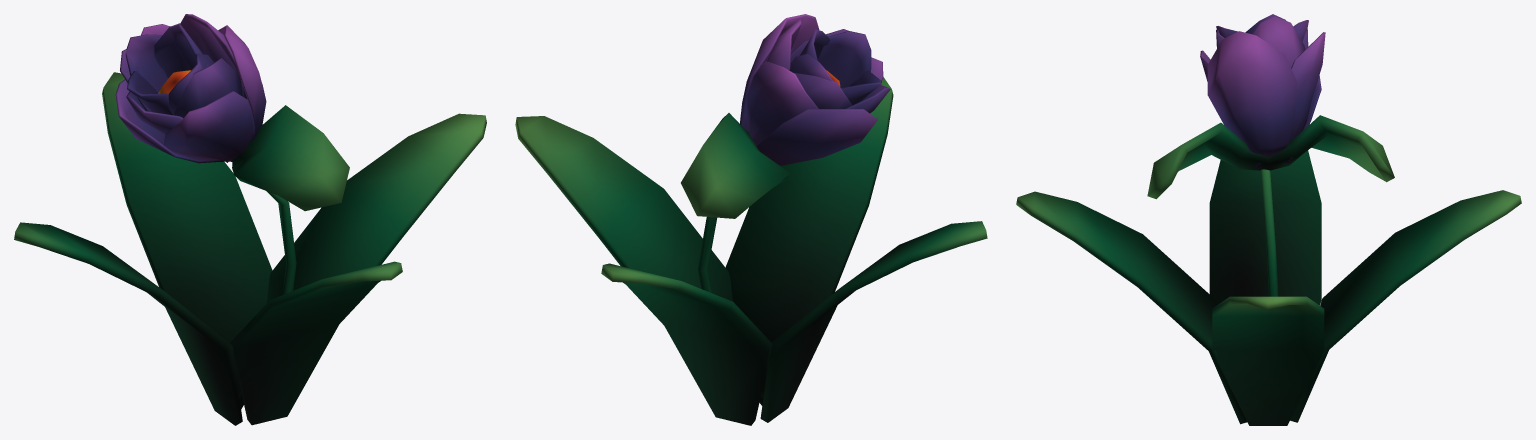
File: Flower_19.fbx
3 views of the same model, side by side, from view 1: azimuth 30°, elevation 25°; view 2: azimuth 150°, elevation 25°; view 3: azimuth 270°, elevation 25° (orthographic). The views are drawn at different scales.
Visible parts, largest first — view 1: Flower_19; view 2: Flower_19; view 3: Flower_19.
Part boxes in pixels (box(x1,y1,x2,y2)): Flower_19: box(14, 14, 486, 425); Flower_19: box(515, 14, 987, 425); Flower_19: box(1016, 14, 1521, 425).
Bounding box in the file's own units: 0.4124 × 0.3378 × 0.414.
